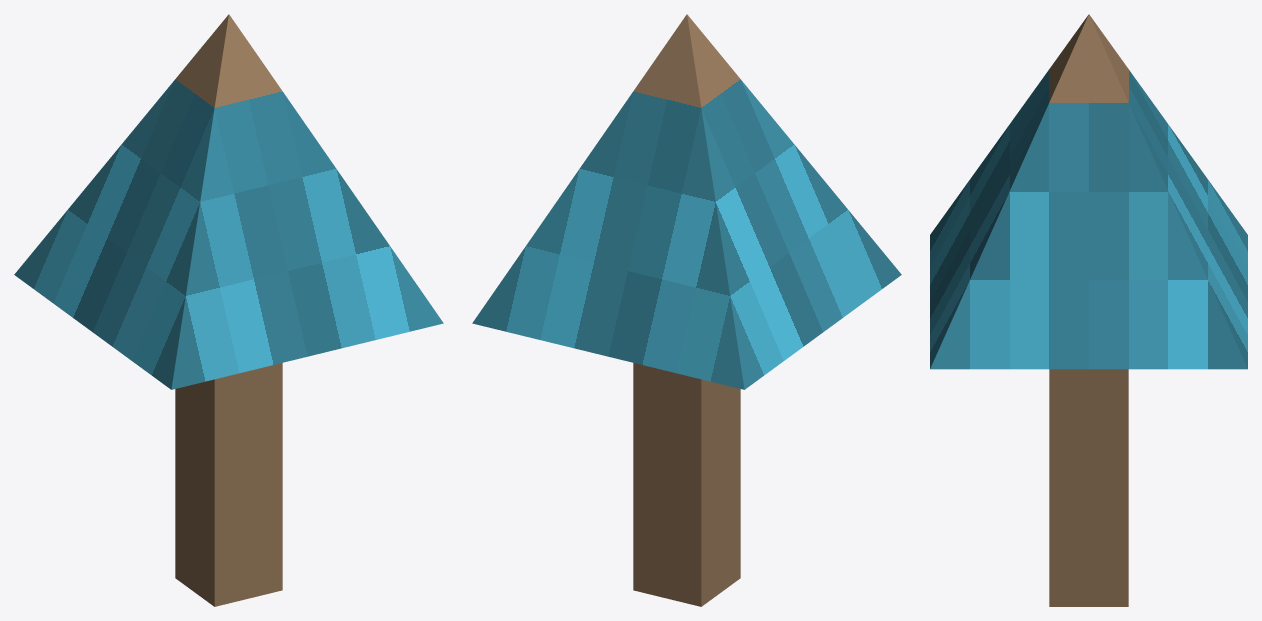
Rendered from light_blue_umbrella_close_3d.obj.
The picture shows the model from 3 angles, left to right: view 1: azimuth 30°, elevation 25°; view 2: azimuth 150°, elevation 25°; view 3: azimuth 270°, elevation 25°; orthographic projection.
Visible parts, largest first — view 1: Cube; view 2: Cube; view 3: Cube.
Part boxes in pixels (x1,y1,x2,y2): Cube: [14, 14, 443, 606]; Cube: [472, 14, 901, 606]; Cube: [930, 14, 1247, 606].
Bounding box in the file's own units: 0.5 × 1 × 0.5.
